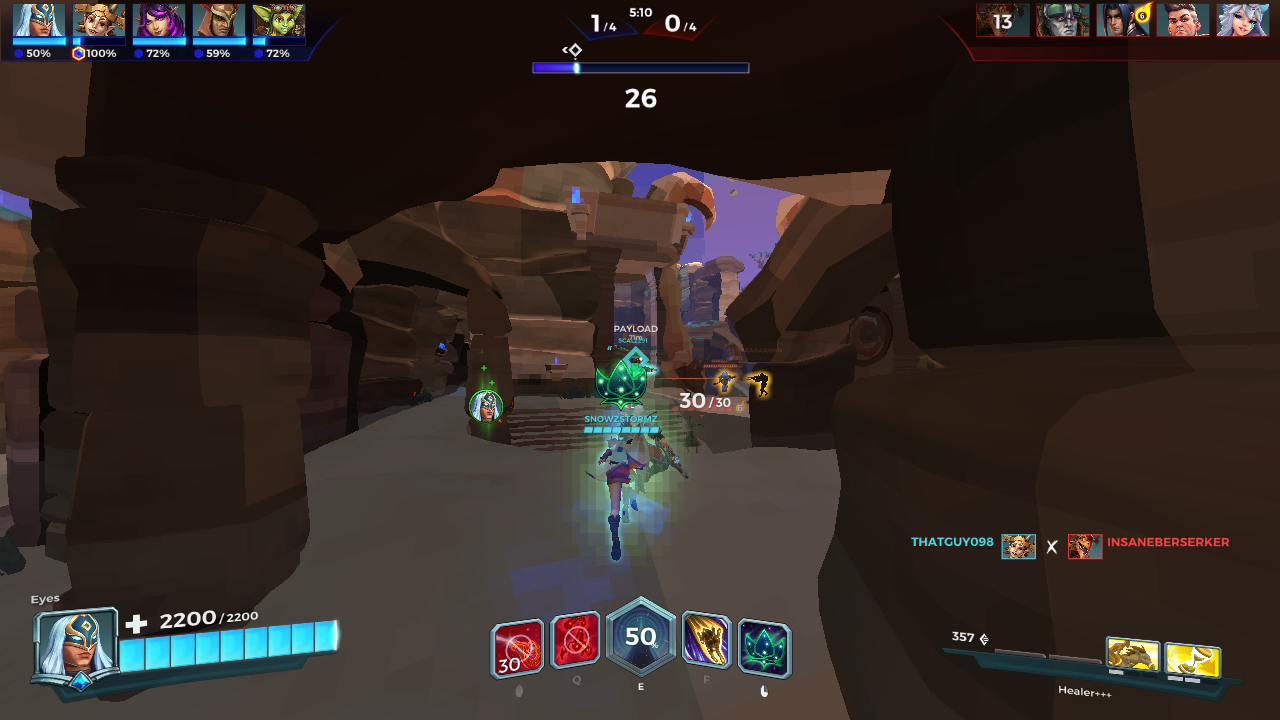model: (748, 367, 774, 401), (714, 369, 736, 400)
